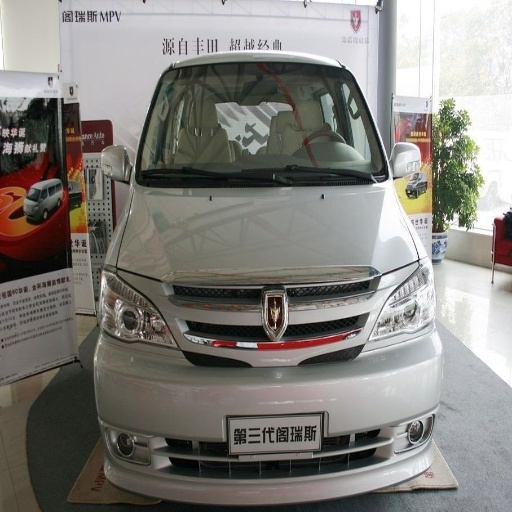front_bumper: (97, 288, 440, 503)
front_right_light: (98, 266, 172, 346)
hood: (115, 182, 417, 348)
